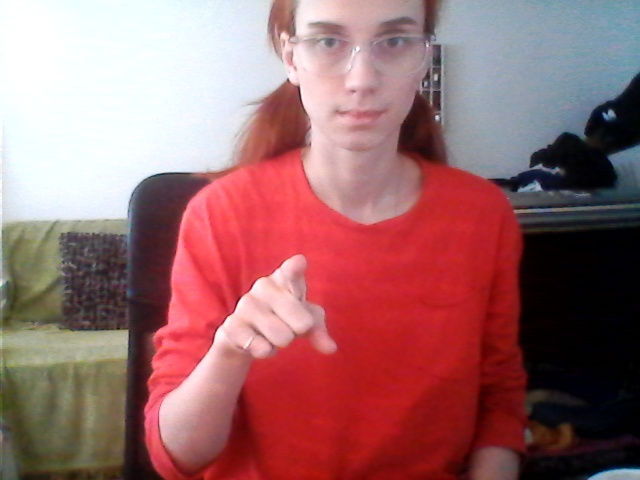ty: (211, 239, 348, 384)
